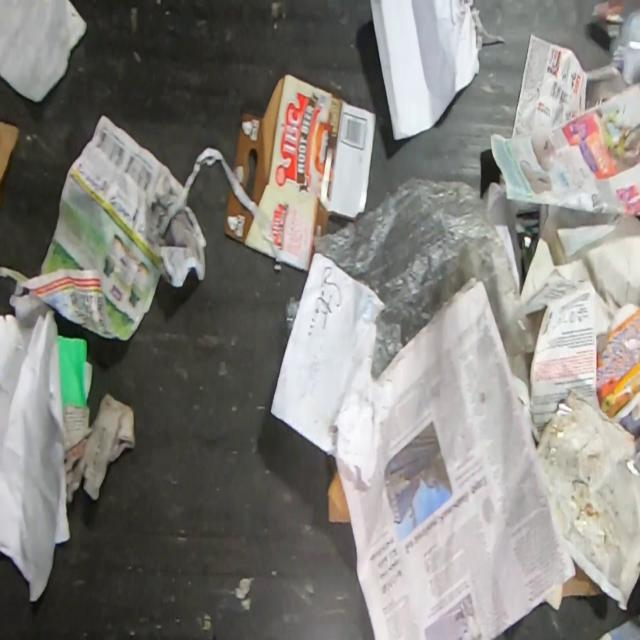cardboard: (232, 71, 376, 272), (224, 186, 276, 260), (561, 560, 606, 597), (0, 118, 22, 193), (325, 466, 352, 524)
soft_plastic: (313, 175, 537, 382), (284, 296, 302, 335)
